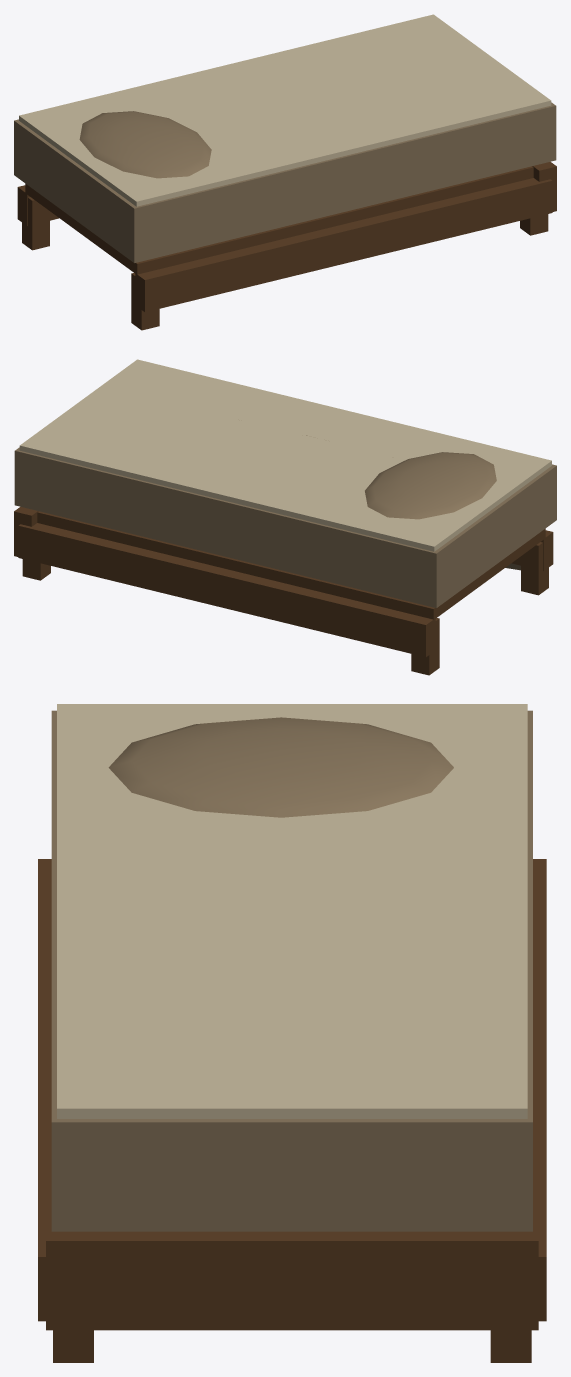
File: bed_80s.glb
3 renders of one model, top to bottom at view 1: azimuth 30°, elevation 25°; view 2: azimuth 150°, elevation 25°; view 3: azimuth 270°, elevation 25°, orthographic. The views are drawn at different scales.
Parts seen in each view (by area): view 1: paper__sheet_edge, fabric__mattress, wood__side_rail_right, fabric__pillow, wood__slats, wood__leg, _MeshInstance3D_2, wood__foot_rail, _MeshInstance3D_4, wood__side_rail_left; view 2: paper__sheet_edge, fabric__mattress, wood__side_rail_left, fabric__pillow, wood__slats, _MeshInstance3D_2, wood__leg, wood__foot_rail, _MeshInstance3D_3, wood__side_rail_right; view 3: paper__sheet_edge, fabric__mattress, wood__foot_rail, fabric__pillow, wood__side_rail_left, wood__side_rail_right, _MeshInstance3D_3, _MeshInstance3D_4.
Part boxes in pixels (x1=…): paper__sheet_edge: x1=19, y1=14, x2=551, y2=206; fabric__mattress: x1=14, y1=102, x2=556, y2=262; wood__side_rail_right: x1=135, y1=178, x2=552, y2=312; fabric__pillow: x1=79, y1=111, x2=211, y2=178; wood__slats: x1=25, y1=166, x2=533, y2=274; wood__leg: x1=22, y1=197, x2=49, y2=250; _MeshInstance3D_2: x1=131, y1=273, x2=159, y2=330; wood__foot_rail: x1=532, y1=161, x2=556, y2=211; _MeshInstance3D_4: x1=520, y1=214, x2=548, y2=235; wood__side_rail_left: x1=17, y1=185, x2=58, y2=226; paper__sheet_edge: x1=19, y1=359, x2=551, y2=551; fabric__mattress: x1=14, y1=447, x2=556, y2=607; wood__side_rail_left: x1=18, y1=523, x2=435, y2=657; fabric__pillow: x1=365, y1=452, x2=496, y2=519; wood__slats: x1=37, y1=511, x2=545, y2=619; _MeshInstance3D_2: x1=521, y1=542, x2=548, y2=595; wood__leg: x1=411, y1=618, x2=439, y2=675; wood__foot_rail: x1=14, y1=506, x2=38, y2=556; _MeshInstance3D_3: x1=22, y1=559, x2=50, y2=580; wood__side_rail_right: x1=512, y1=530, x2=553, y2=571; paper__sheet_edge: x1=57, y1=704, x2=527, y2=1118; fabric__mattress: x1=51, y1=710, x2=532, y2=1231; wood__foot_rail: x1=46, y1=1223, x2=538, y2=1330; fabric__pillow: x1=108, y1=717, x2=453, y2=817; wood__side_rail_left: x1=533, y1=859, x2=546, y2=1321; wood__side_rail_right: x1=38, y1=859, x2=51, y2=1321; _MeshInstance3D_3: x1=490, y1=1330, x2=531, y2=1362; _MeshInstance3D_4: x1=53, y1=1330, x2=93, y2=1362.
Size of the model in its own units: 1.78 by 0.555 by 0.955.
